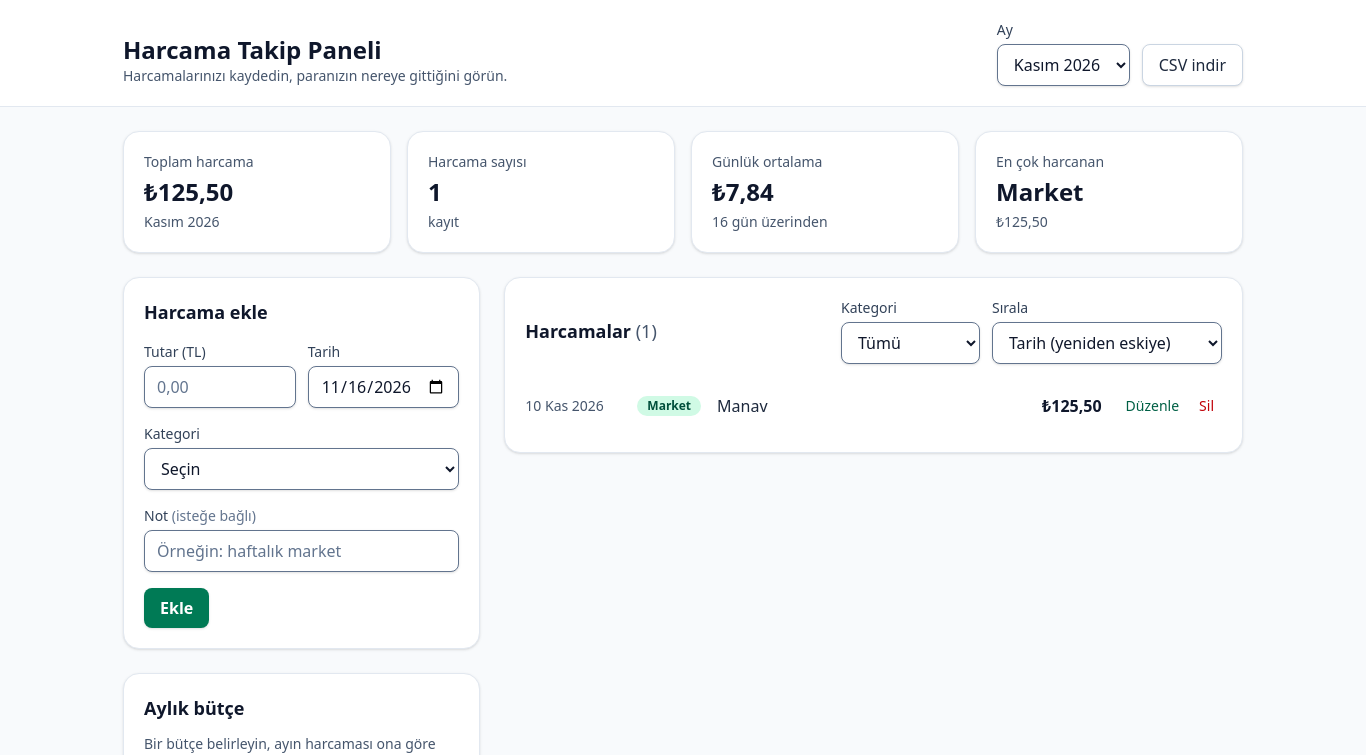
Test: the expense form › drops the error messages of a half-filled new entry when editing starts
Type "abc" into the field labelled "Tutar (TL)" at coordinates (220, 387), box top-left (144, 366), bottom-right (296, 408)
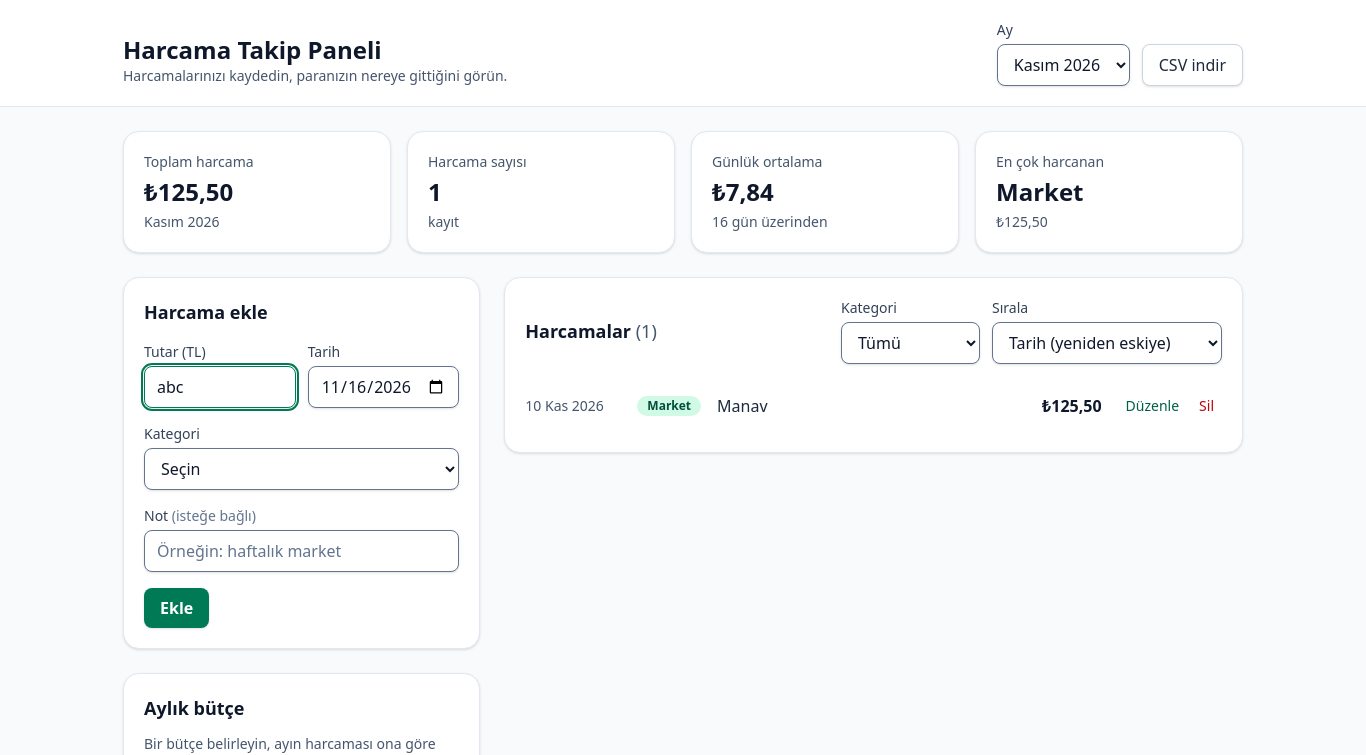
Click the button "Ekle" at coordinates (177, 608), box top-left (144, 588), bottom-right (209, 628)
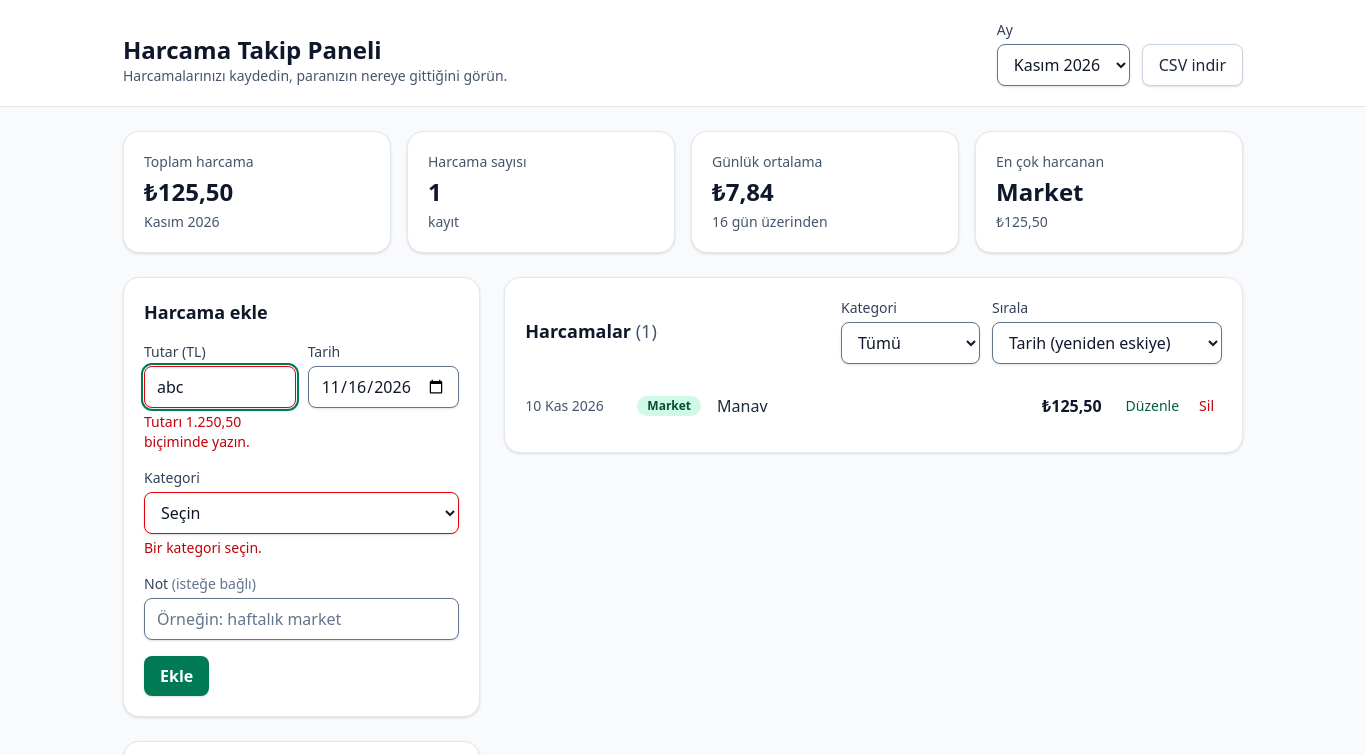
Check: the text "Bir kategori seçin." is shown, box top-left (144, 538), bottom-right (262, 557)
Click the button named "Market harcaması: düzenle" at coordinates (1152, 406), box top-left (1118, 392), bottom-right (1187, 420)
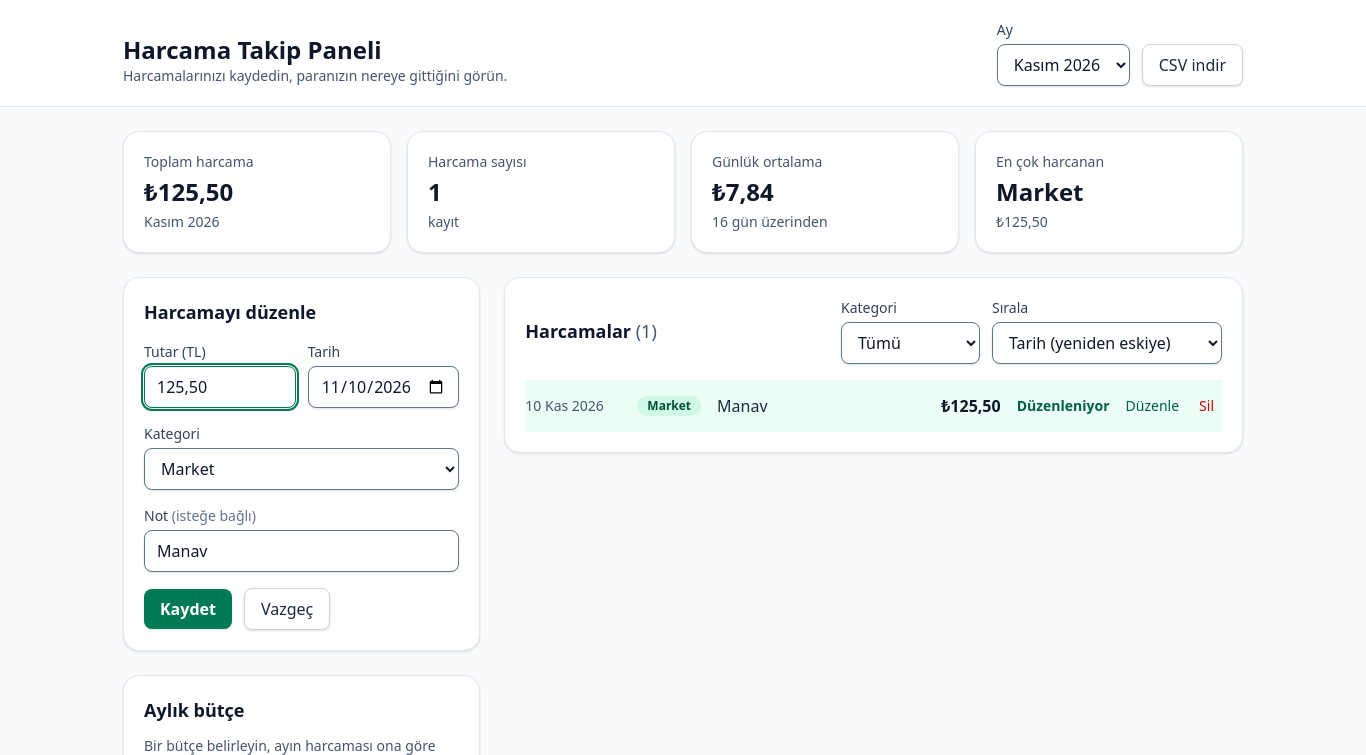
Check: the field labelled "Tutar (TL)" holds "125,50", box top-left (144, 366), bottom-right (296, 408)
Check: the text "Bir kategori seçin." is gone
